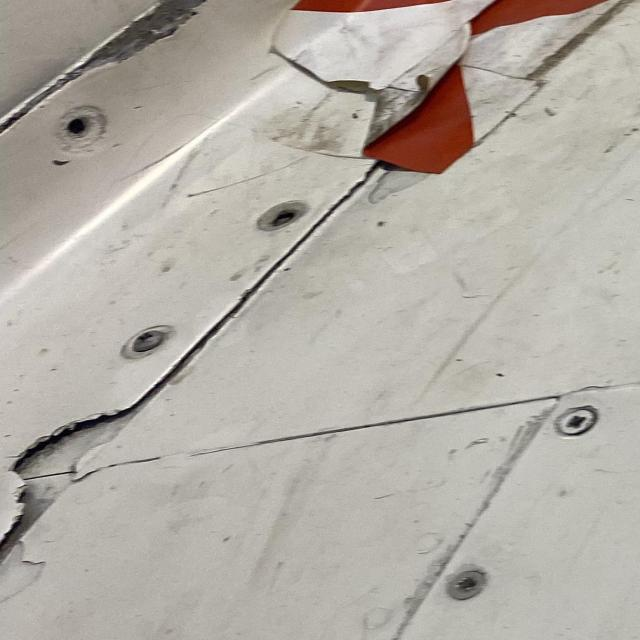Crack: (1, 407, 131, 555), (32, 0, 203, 94)
Missing-head: (55, 106, 101, 142), (253, 201, 303, 230)
